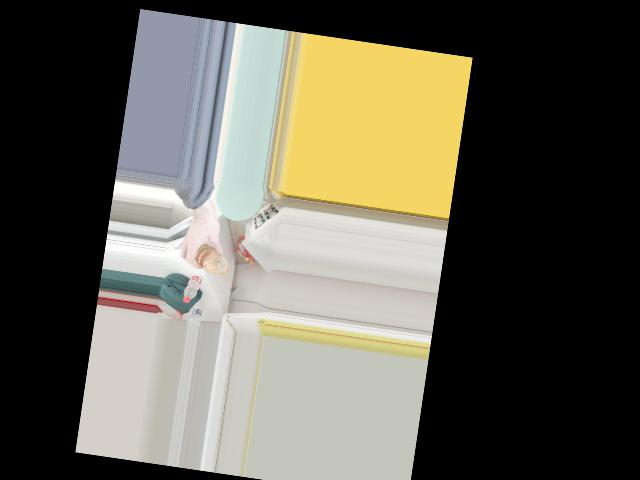sweet_potato: (191, 242, 226, 276)
